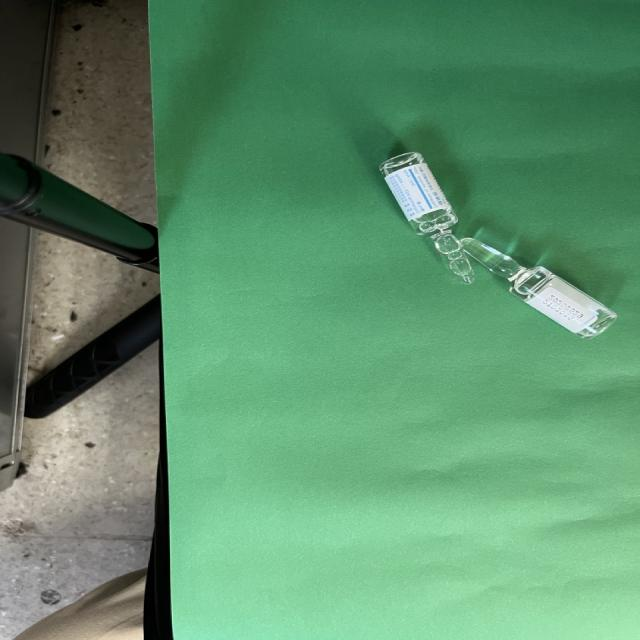Ampoules: (380, 152, 616, 337)
